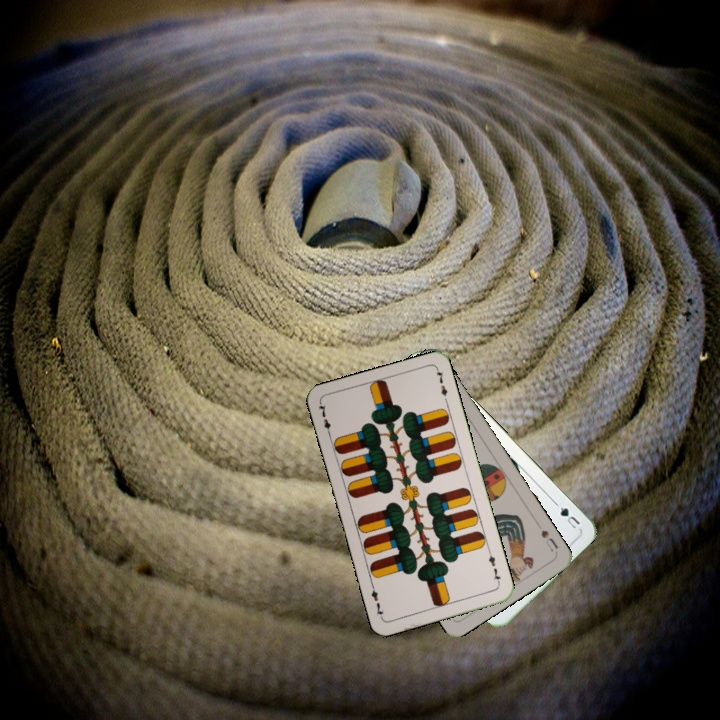E7: (484, 547, 503, 587), (314, 399, 333, 439)
GU: (556, 503, 583, 533)
SU: (537, 526, 561, 554)
